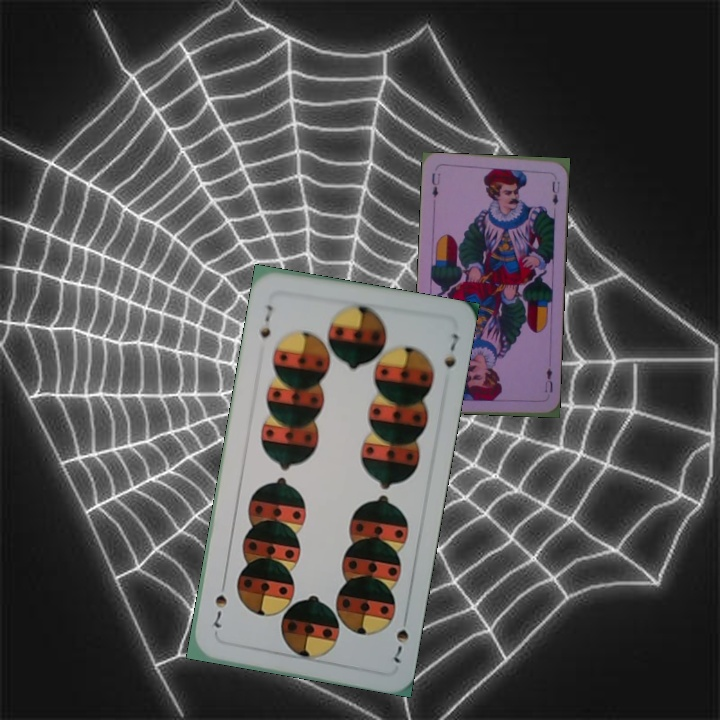EU: (428, 169, 444, 200), (541, 364, 555, 395)
S7: (389, 610, 411, 666), (256, 300, 276, 343)
